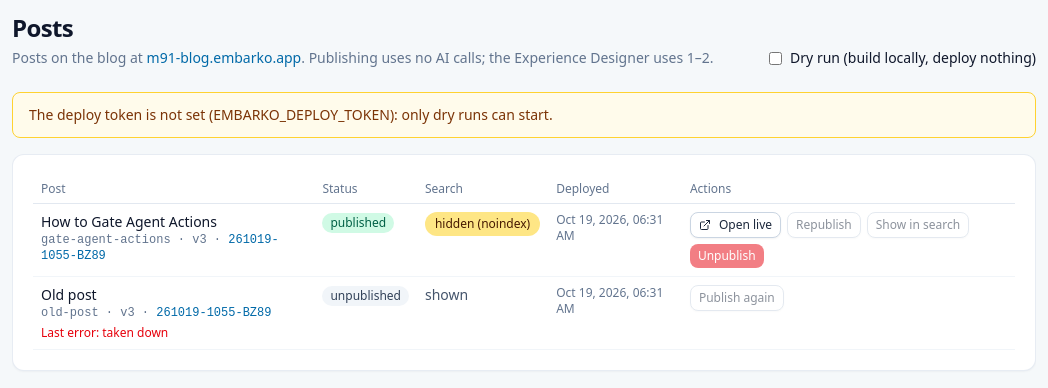
Test case: Posts page › without a deploy token, only dry runs can start
Check: the message "The deploy token is not set (EMBARKO_DEPLOY_TOKEN): only dry runs can start." is shown, box [12,92,1036,138]
Check: the button "Republish" is disabled, box [787,212,861,238]
Click the checkbox labelled "Dry run (build locally, deploy nothing)" at {"x": 776, "y": 58}, box [769,52,782,64]
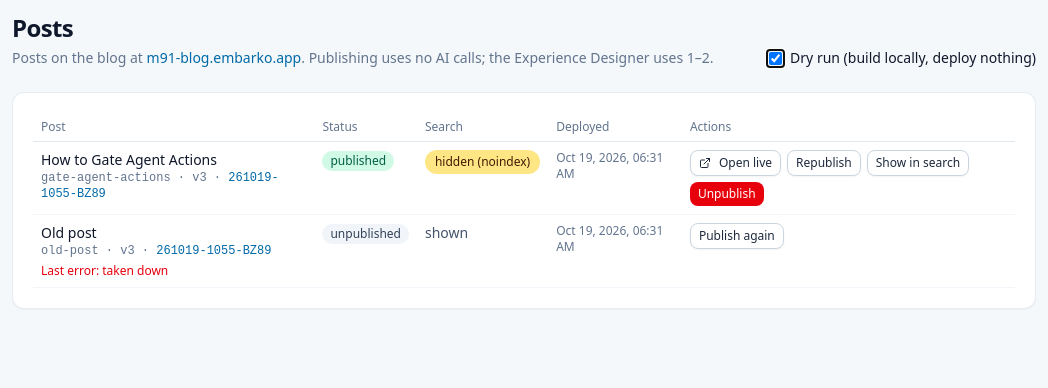
Check: the button "Republish" is enabled, box [787,150,861,176]
